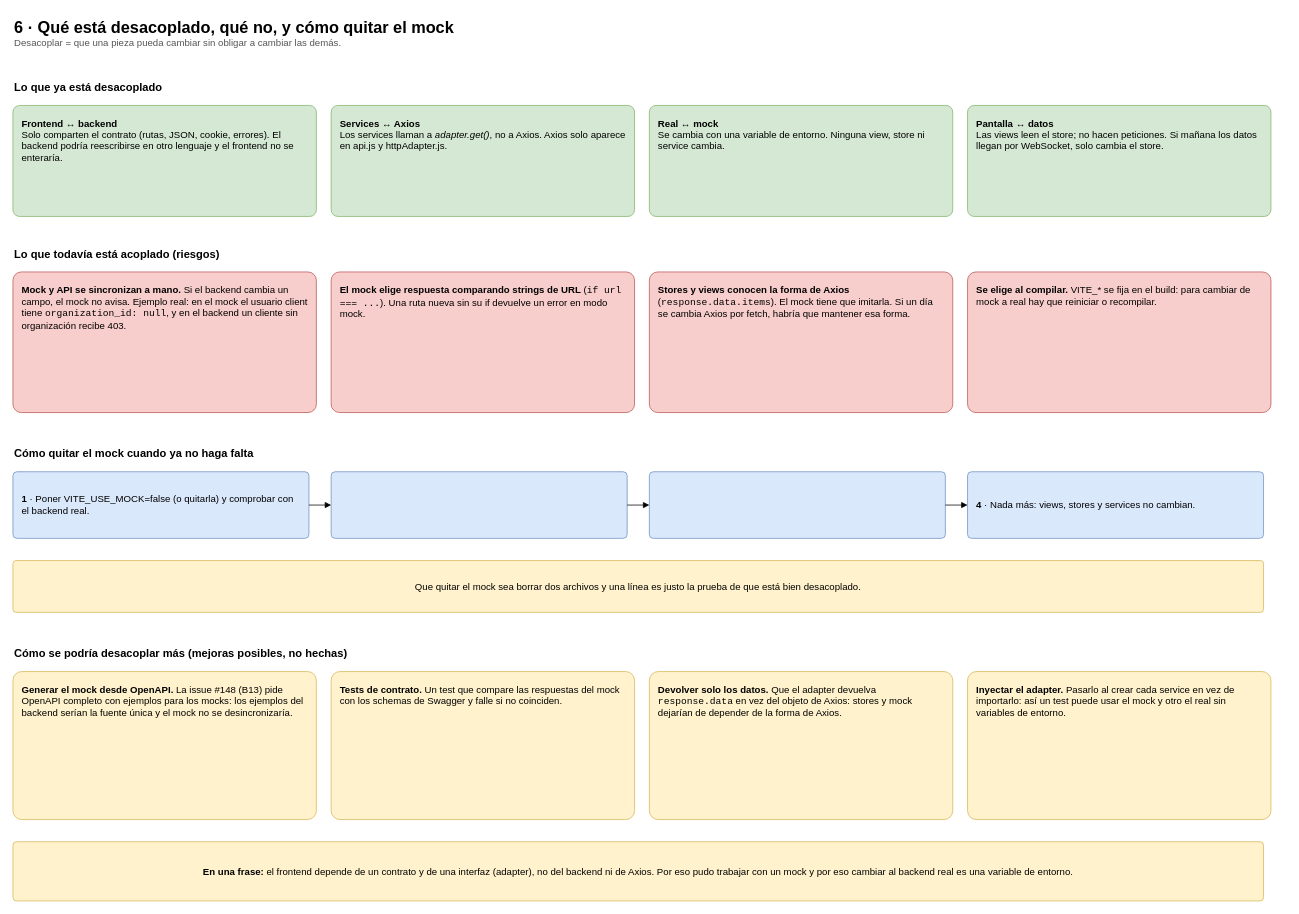
Some shapes in this 1299 by 914 pixel diagram are drawn without their labels. The centre of each missing label's shape, as x and y in pixels:
"2 · adapter.js exporta solo httpAdapter." goes at pixel 478 504.
"3 · Borrar mockAdapter.js y services/fixtures/." goes at pixel 797 504.
